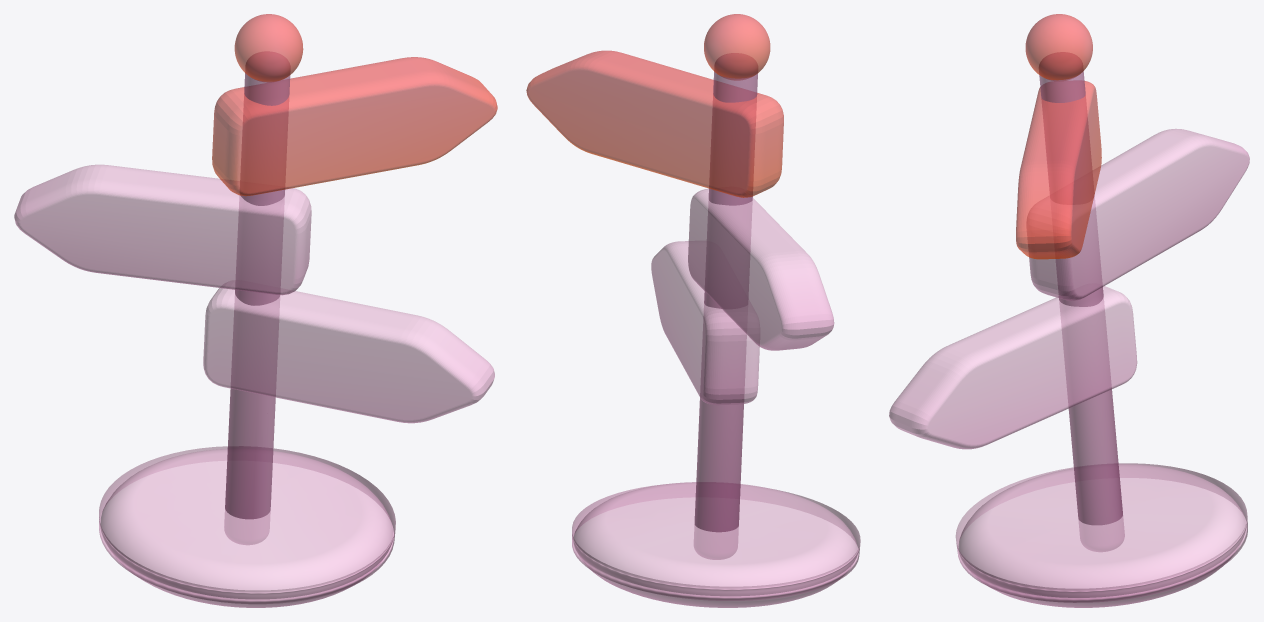
Rendered from signpost.glb.
3 views of the same model, side by side, from view 1: azimuth 30°, elevation 25°; view 2: azimuth 150°, elevation 25°; view 3: azimuth 270°, elevation 25° (orthographic). The views are drawn at different scales.
Visible parts, largest first — view 1: base, sign_2, sign_3, sign_1, post, cap; view 2: base, sign_1, post, sign_2, sign_3, cap; view 3: base, sign_3, sign_2, post, sign_1, cap.
Part boxes in pixels (x1,y1,x2,y2): base: [99, 446, 395, 607]; sign_2: [14, 164, 311, 295]; sign_3: [203, 280, 494, 423]; sign_1: [212, 57, 497, 196]; post: [224, 52, 290, 544]; cap: [234, 14, 303, 81]; base: [572, 482, 860, 607]; sign_1: [526, 50, 783, 197]; post: [694, 53, 757, 559]; sign_2: [688, 188, 834, 350]; sign_3: [651, 241, 759, 405]; cap: [704, 14, 770, 79]; base: [955, 463, 1247, 607]; sign_3: [889, 286, 1137, 449]; sign_2: [1027, 128, 1249, 300]; post: [1039, 52, 1124, 551]; sign_1: [1016, 81, 1101, 259]; cap: [1025, 14, 1092, 80].
Size of the model in its own units: 0.7876 by 1.07 by 0.6407.
